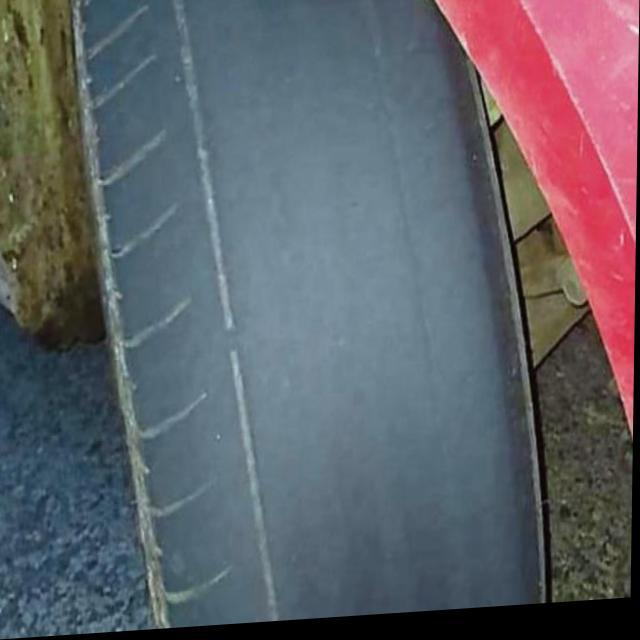Flat spots: (160, 0, 427, 594)
